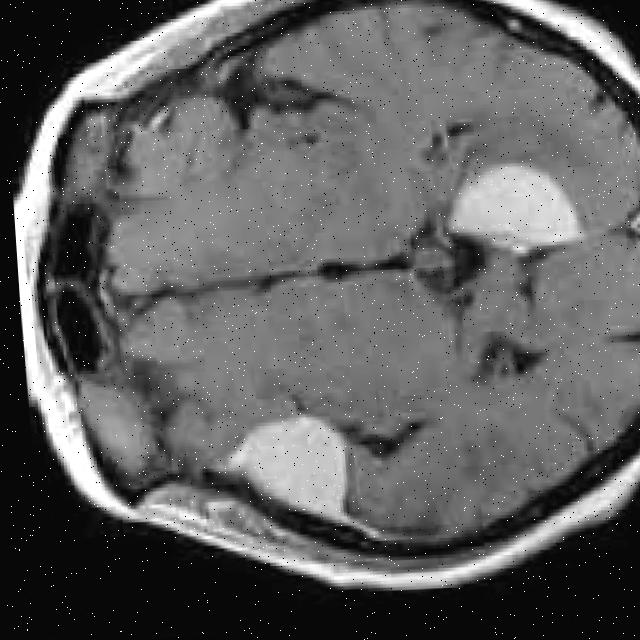Meningioma: (212, 413, 359, 524), (436, 156, 589, 256)
